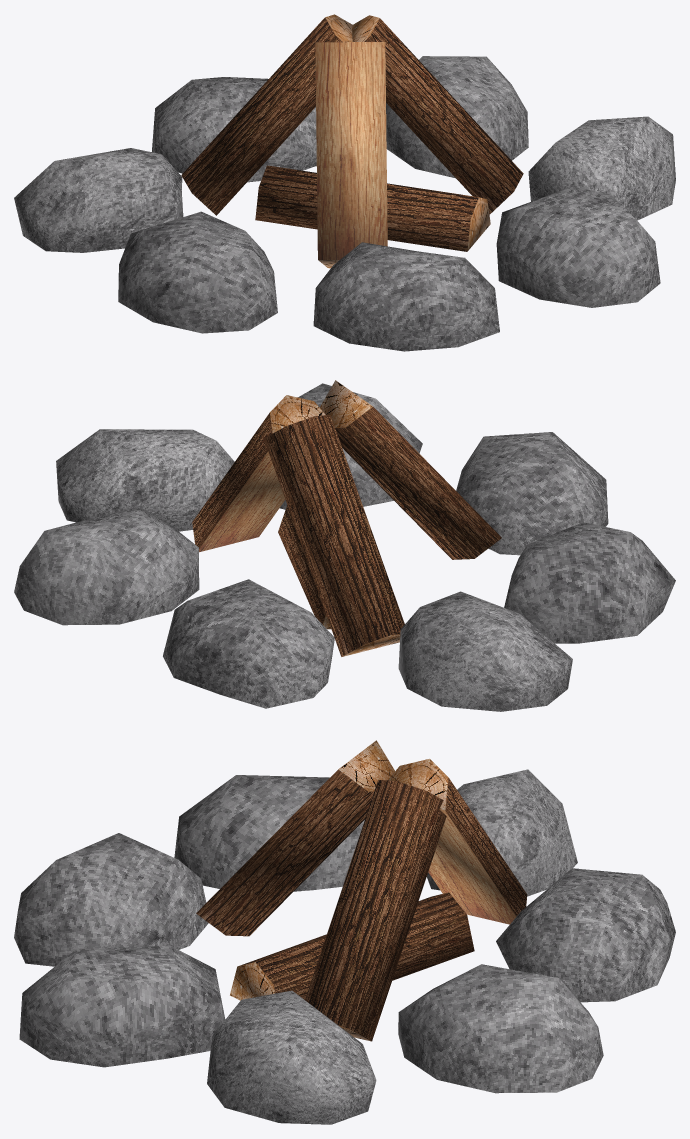
Rendered from Campfire.glb.
3 views of the same model, one above another, from view 1: azimuth 30°, elevation 25°; view 2: azimuth 150°, elevation 25°; view 3: azimuth 270°, elevation 25° (orthographic). The views are drawn at different scales.
Visible parts, largest first — view 1: Campfire; view 2: Campfire; view 3: Campfire.
Part boxes in pixels (bbox=[...]): Campfire: bbox=[14, 14, 675, 351]; Campfire: bbox=[14, 380, 675, 711]; Campfire: bbox=[14, 740, 675, 1124].
Size of the model in its own units: 1.4 by 0.439 by 1.26.
1 material, 1 textured.
